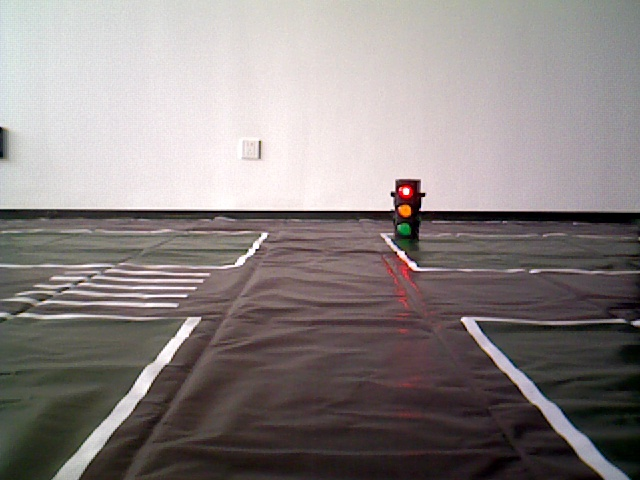red: (393, 181, 413, 235)
